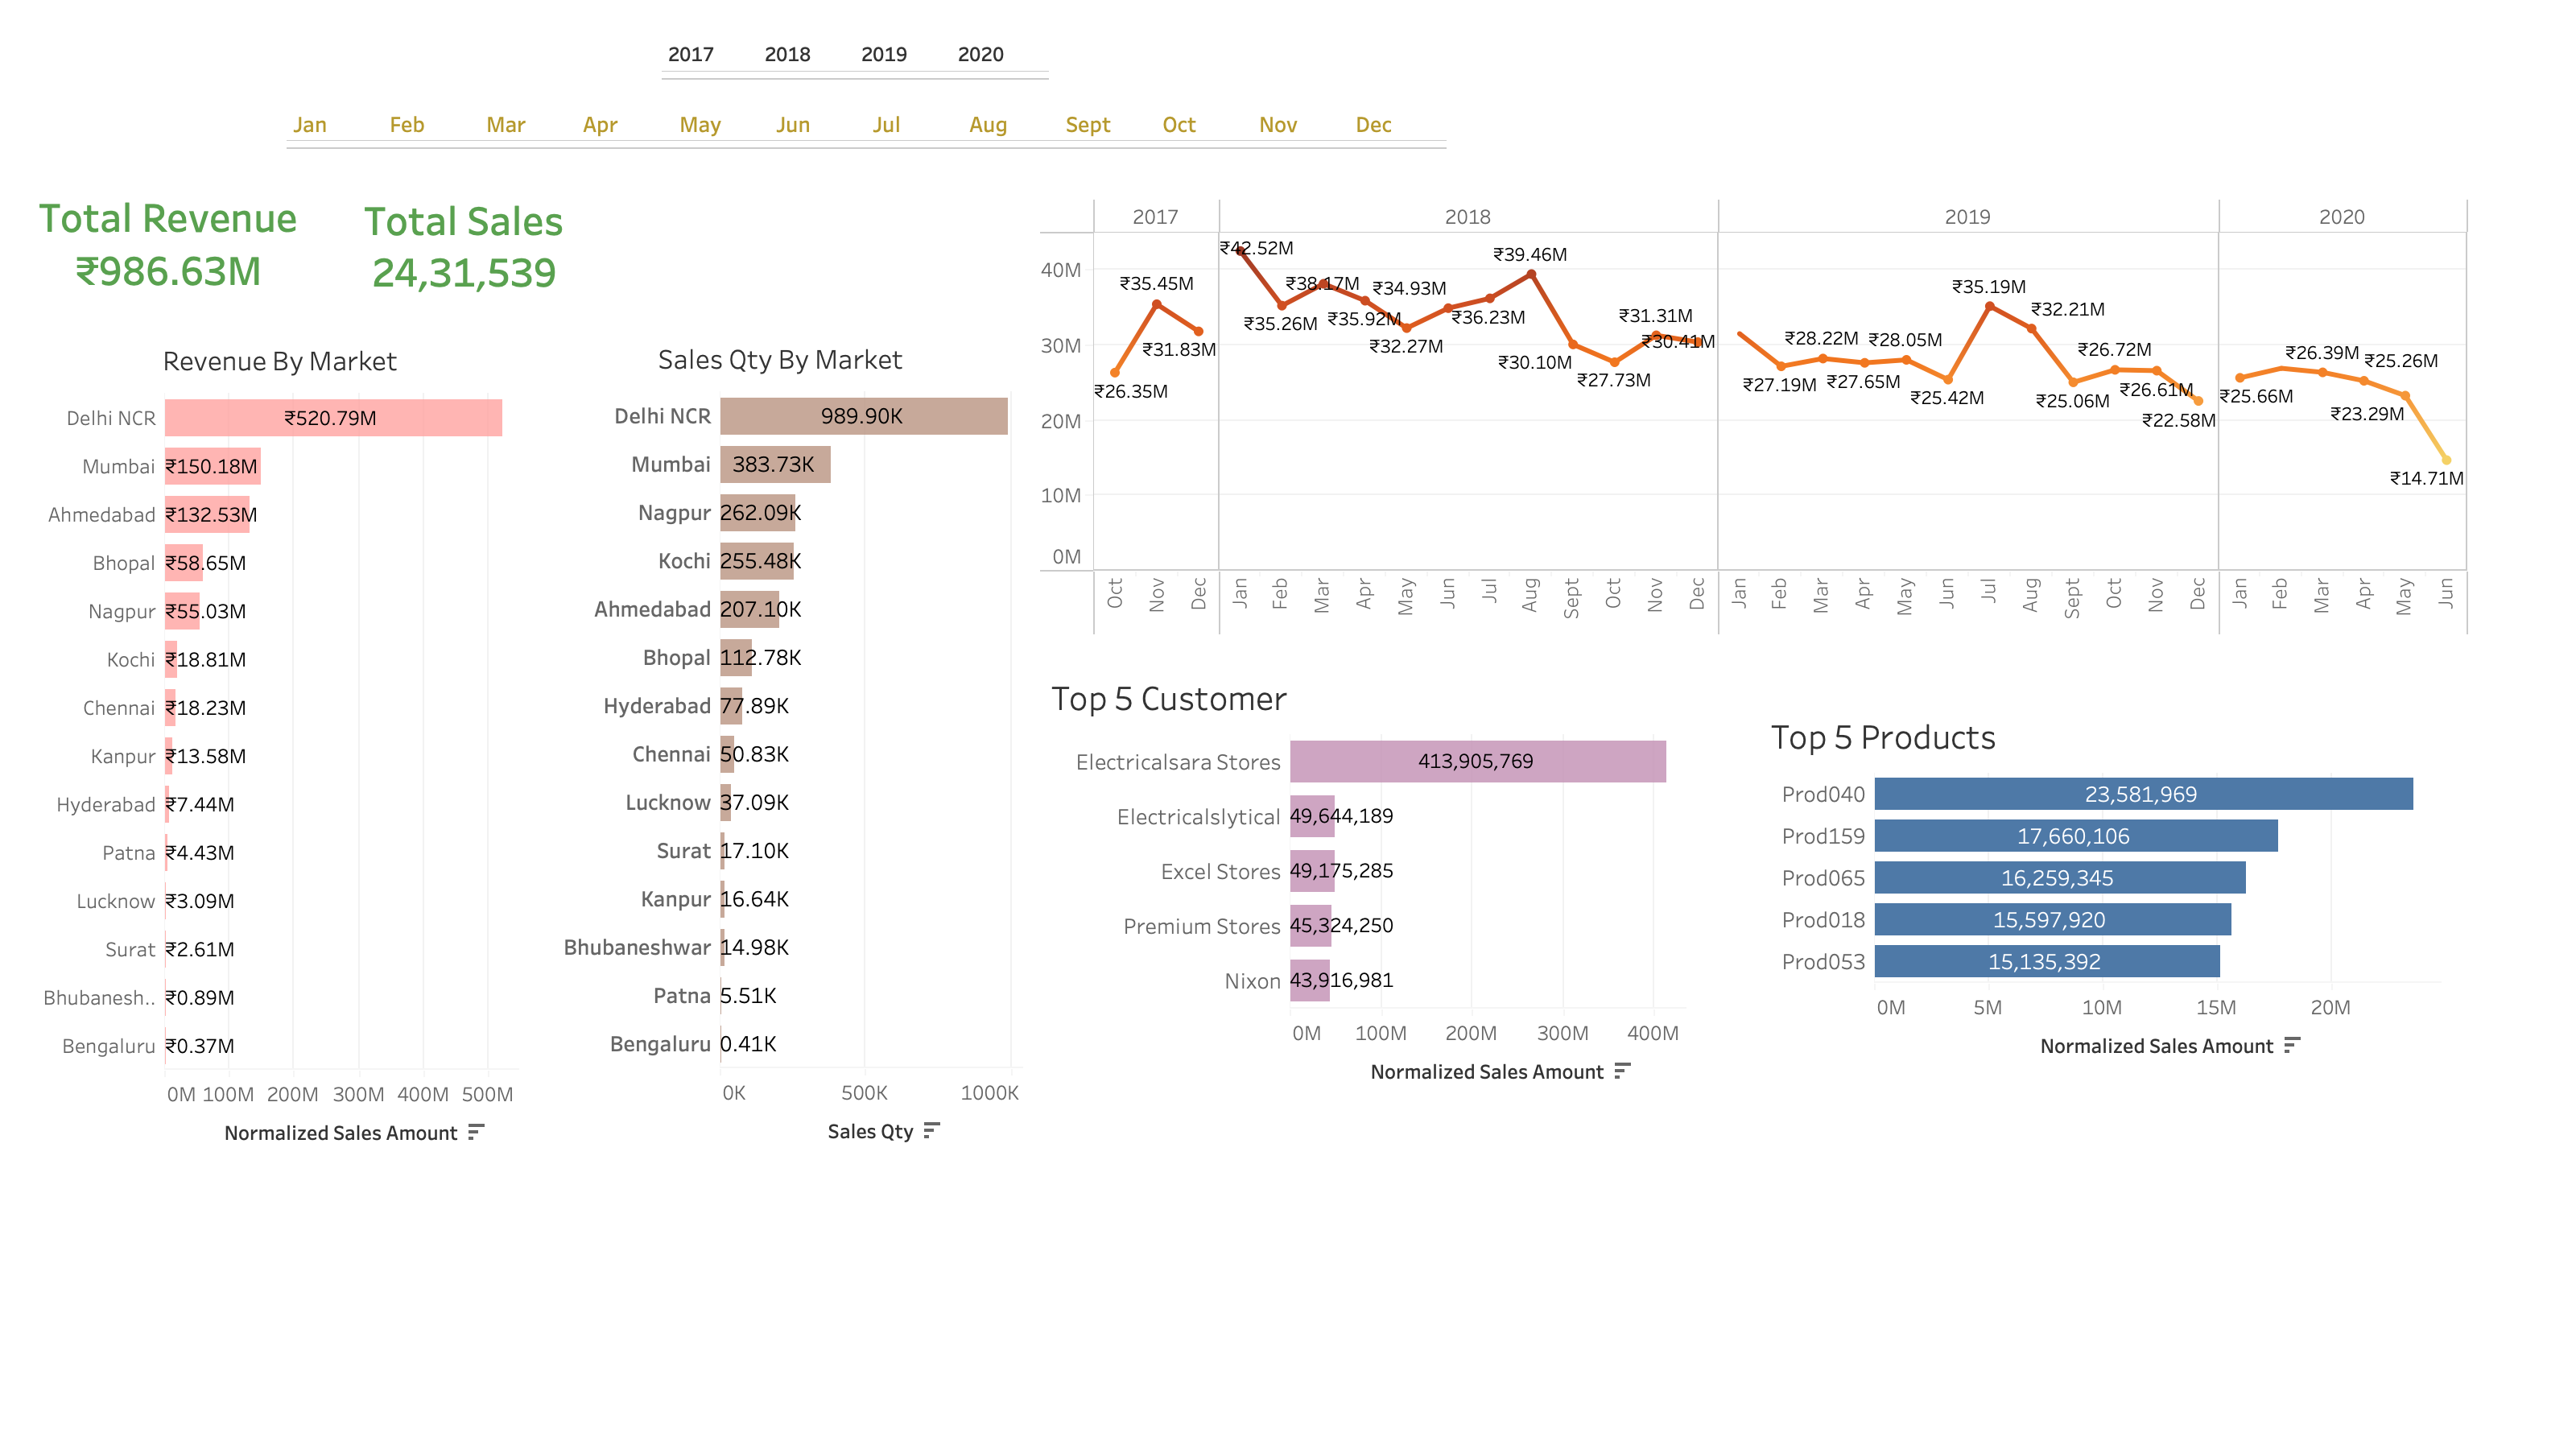

What the dashboard file says about the page in this screenshot:
{"tool":"tableau","page":{"name":"Main Dashboard","canvas":[1600,900],"ordinal":0},"visuals":[{"type":"worksheet","title":"Year","mark":"Automatic","cols":["cy_date"],"box":[411,8,276,55]},{"type":"worksheet","title":"Month","mark":"Automatic","cols":["cy_date"],"box":[178,52,724,48]},{"type":"worksheet","title":"Revenue","mark":"Automatic","box":[15,100,182,94]},{"type":"worksheet","title":"Sales","mark":"Automatic","box":[219,105,155,90]},{"type":"worksheet","title":"Revenue By Year","mark":"Automatic","rows":["Calculation_5416895200215040"],"cols":["cy_date","cy_date"],"box":[646,109,888,286]},{"type":"worksheet","title":"Sales Qty By Market","mark":"Automatic","rows":["markets_name"],"cols":["sales_qty"],"box":[335,205,300,585]},{"type":"worksheet","title":"Revenue By Markets","mark":"Automatic","rows":["markets_name"],"cols":["Calculation_5416895200215040"],"box":[26,206,296,517]},{"type":"worksheet","title":"Top 5 Customer","mark":"Automatic","rows":["custmer_name"],"cols":["Calculation_5416895200215040"],"box":[649,413,398,311]},{"type":"worksheet","title":"Top 5 Products","mark":"Automatic","rows":["product_code (products)"],"cols":["Calculation_5416895200215040"],"box":[1096,437,420,256]}]}

Visuals, with their boxes in screenshot pixels (x1, y1, x2, y2), scaled from the page's 1600x900 canvas onto the 2576x1449 screenshot:
"Year" worksheet: bbox(662, 13, 1106, 101)
"Month" worksheet: bbox(287, 84, 1452, 161)
"Revenue" worksheet: bbox(24, 161, 317, 312)
"Sales" worksheet: bbox(353, 169, 602, 314)
"Revenue By Year" worksheet: bbox(1040, 175, 2470, 636)
"Sales Qty By Market" worksheet: bbox(539, 330, 1022, 1272)
"Revenue By Markets" worksheet: bbox(42, 332, 518, 1164)
"Top 5 Customer" worksheet: bbox(1045, 665, 1686, 1166)
"Top 5 Products" worksheet: bbox(1765, 704, 2441, 1116)
